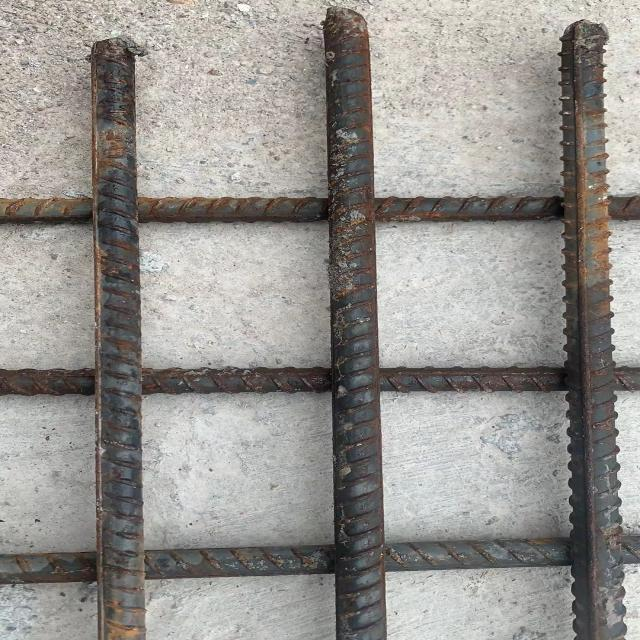ribbed bar: (556, 17, 629, 639), (319, 4, 386, 639), (91, 35, 149, 639), (0, 535, 639, 586), (0, 367, 639, 397), (0, 195, 639, 223)
